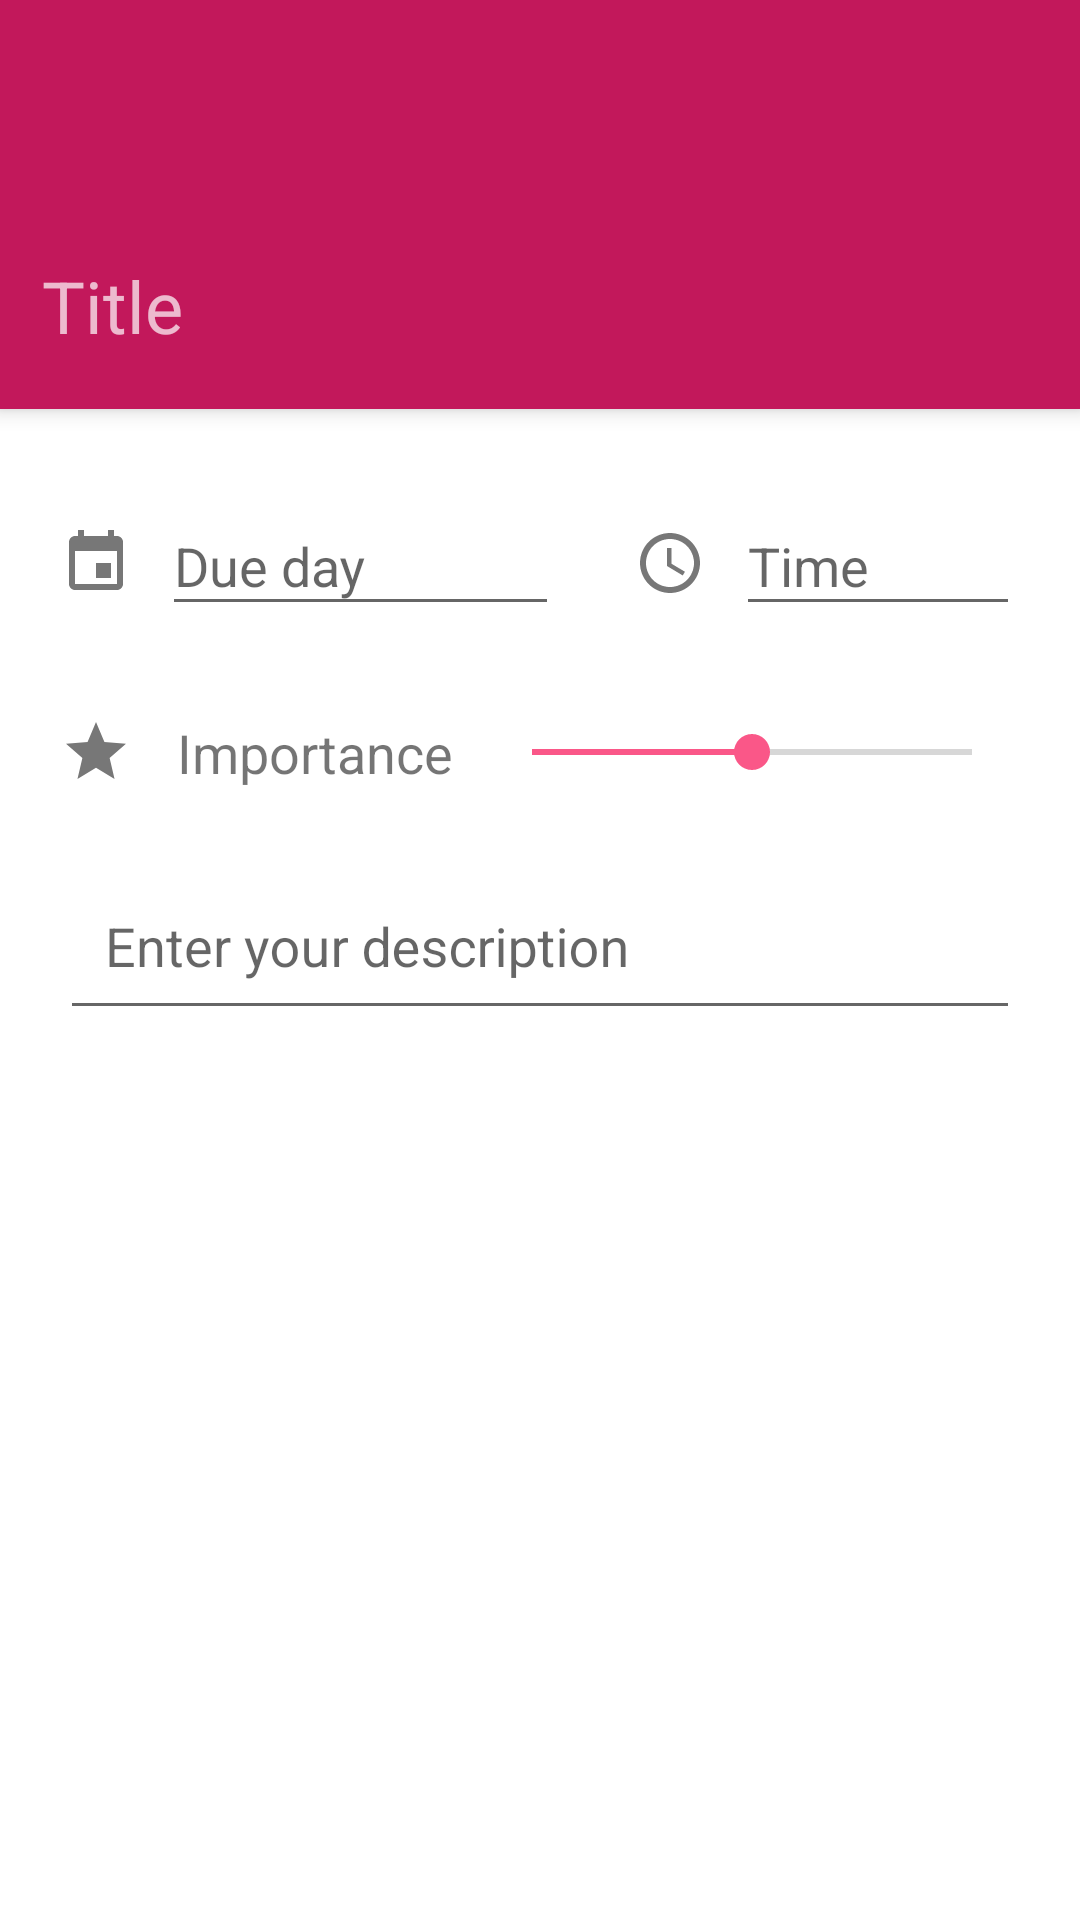

Named icons in this screenshot (1080×1920) and their bounding boxes, (x1, y1, x2, y2):
Calendar: (69, 530, 123, 590)
